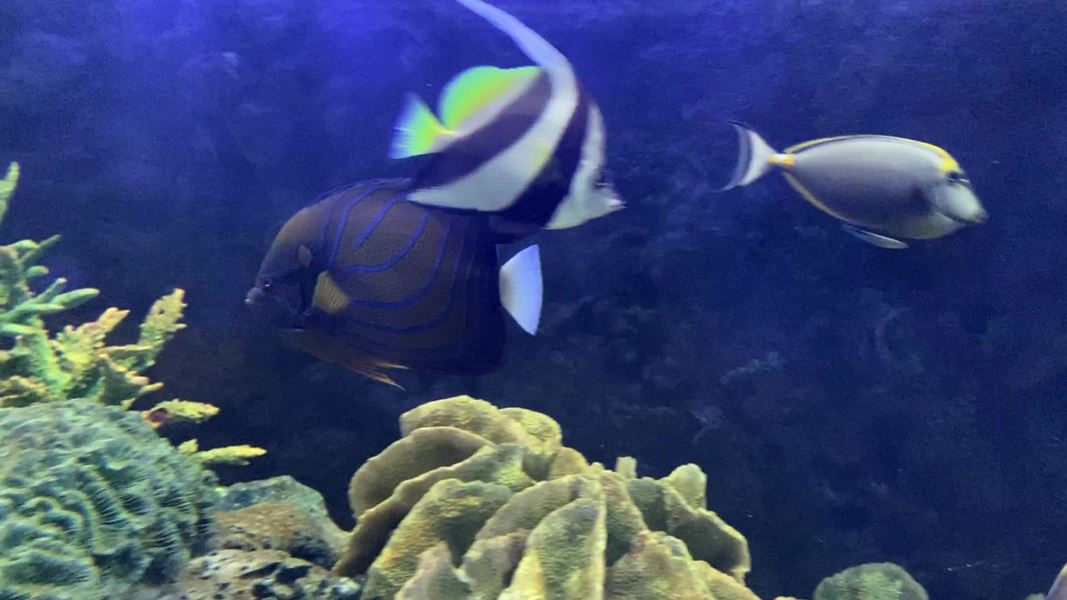Blue ring angelfish: (237, 151, 582, 424)
